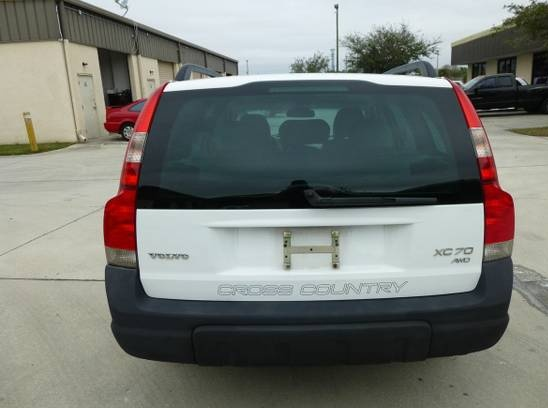volvo: (63, 61, 527, 375)
